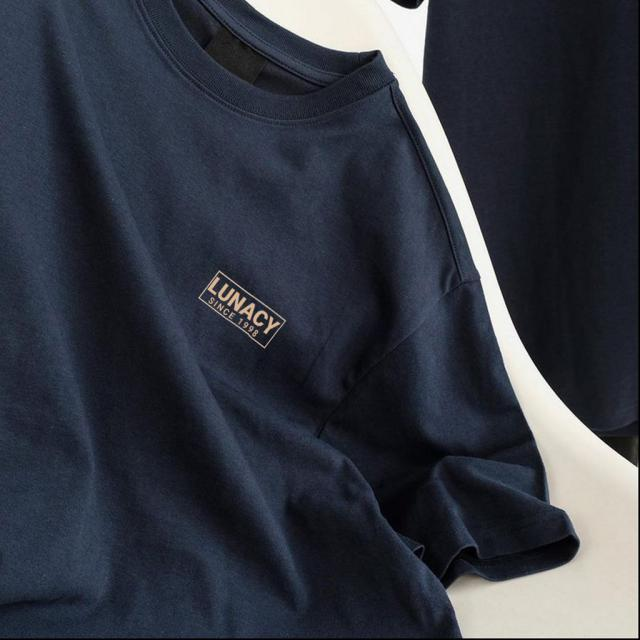Shirt: (1, 0, 586, 633)
